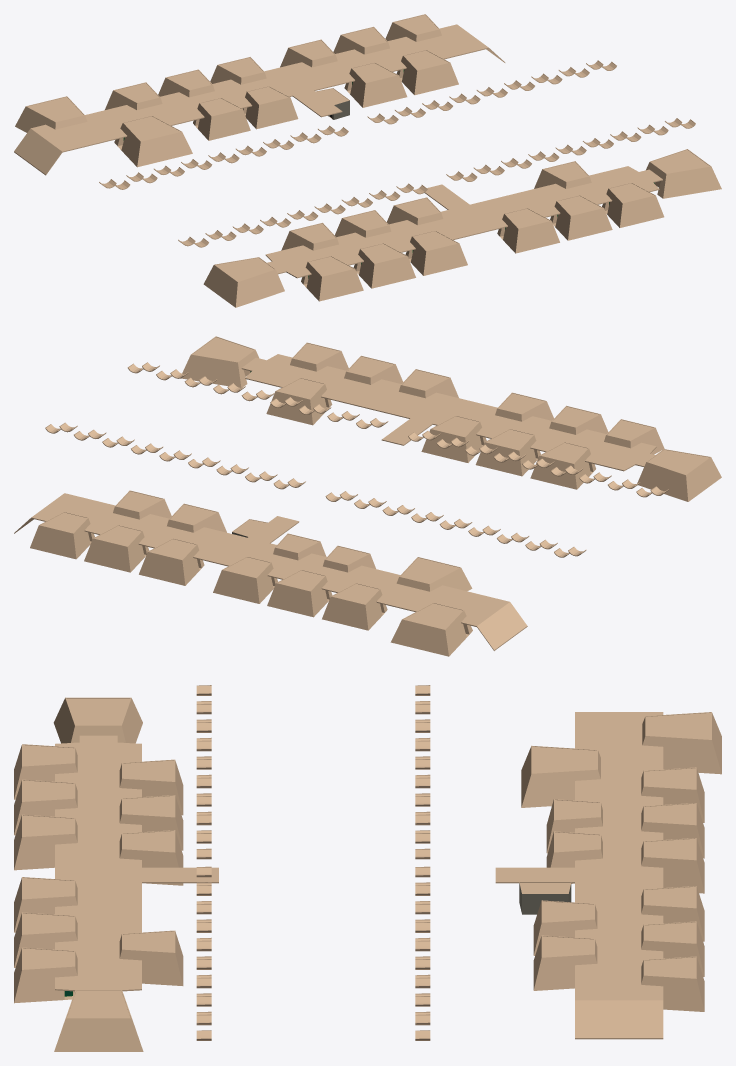
Rendered from amphis et salles td.gltf.
3 views of the same model, one above another, from view 1: azimuth 30°, elevation 25°; view 2: azimuth 150°, elevation 25°; view 3: azimuth 270°, elevation 25° (orthographic). The views are drawn at different scales.
Visible parts, largest first — view 1: amphi; view 2: amphi; view 3: amphi.
Part boxes in pixels (x1,y1,x2,y2): amphi: (14, 14, 721, 307); amphi: (14, 336, 721, 656); amphi: (14, 685, 721, 1051).
Size of the model in its own units: 260 by 15.37 by 224.
1 material, 1 textured.
